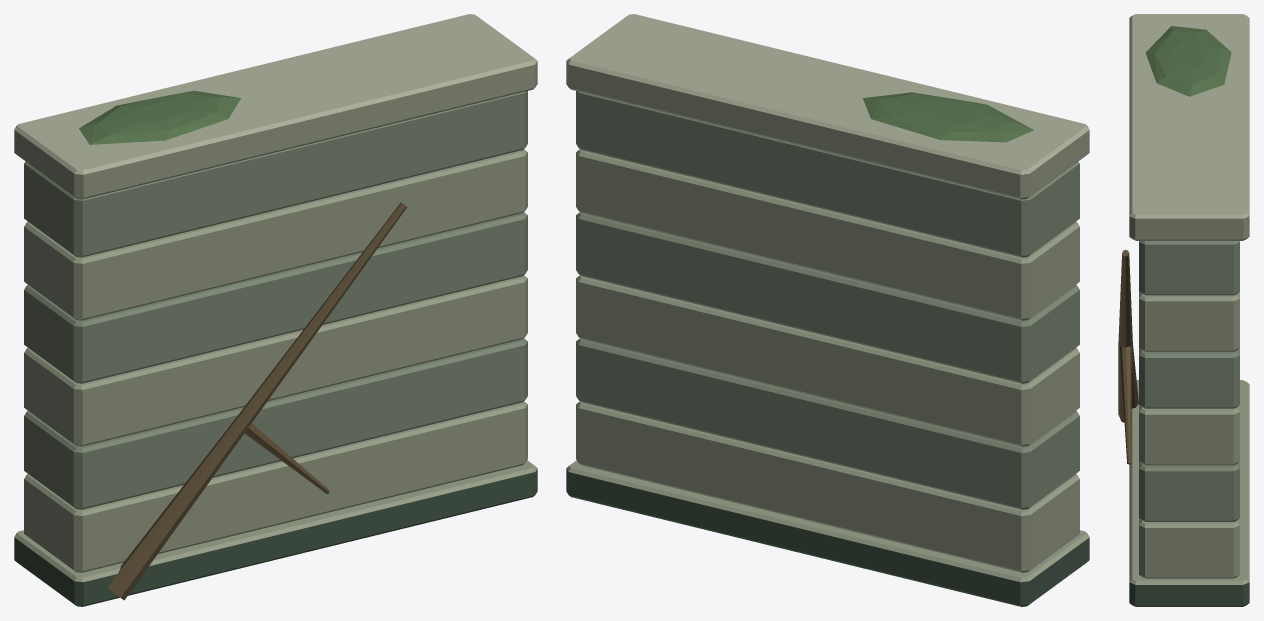
The model's file is wall-tall.glb.
3 renders of one model, left to right at view 1: azimuth 30°, elevation 25°; view 2: azimuth 150°, elevation 25°; view 3: azimuth 270°, elevation 25°, orthographic. The views are drawn at different scales.
Parts seen in each view (by area): view 1: wall-tall__body; view 2: wall-tall__body; view 3: wall-tall__body.
Part boxes in pixels (x1,y1,x2,y2): wall-tall__body: [14, 14, 537, 606]; wall-tall__body: [566, 14, 1089, 606]; wall-tall__body: [1118, 14, 1249, 606].
Bounding box in the file's own units: 2 × 1.84 × 0.545.
